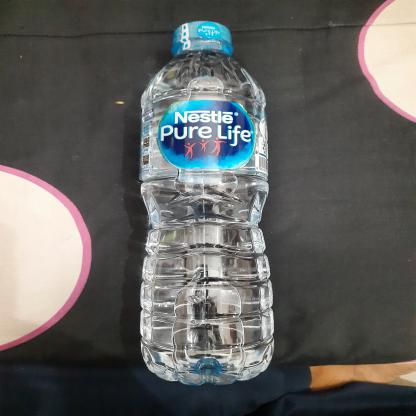bottle: (134, 19, 270, 390)
